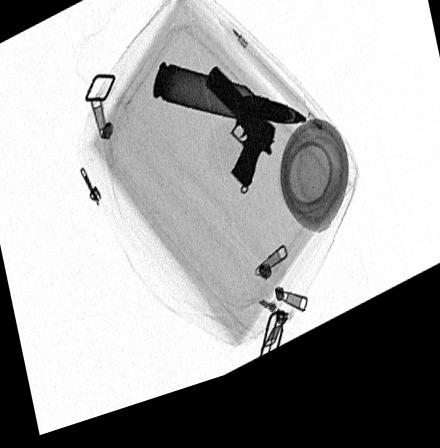Bullet: (151, 71, 306, 144)
Gun: (204, 79, 275, 205)
